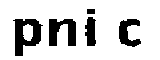c: (115, 18, 143, 51)
i: (83, 4, 100, 48)
n: (44, 16, 77, 49)
p: (9, 14, 41, 60)
